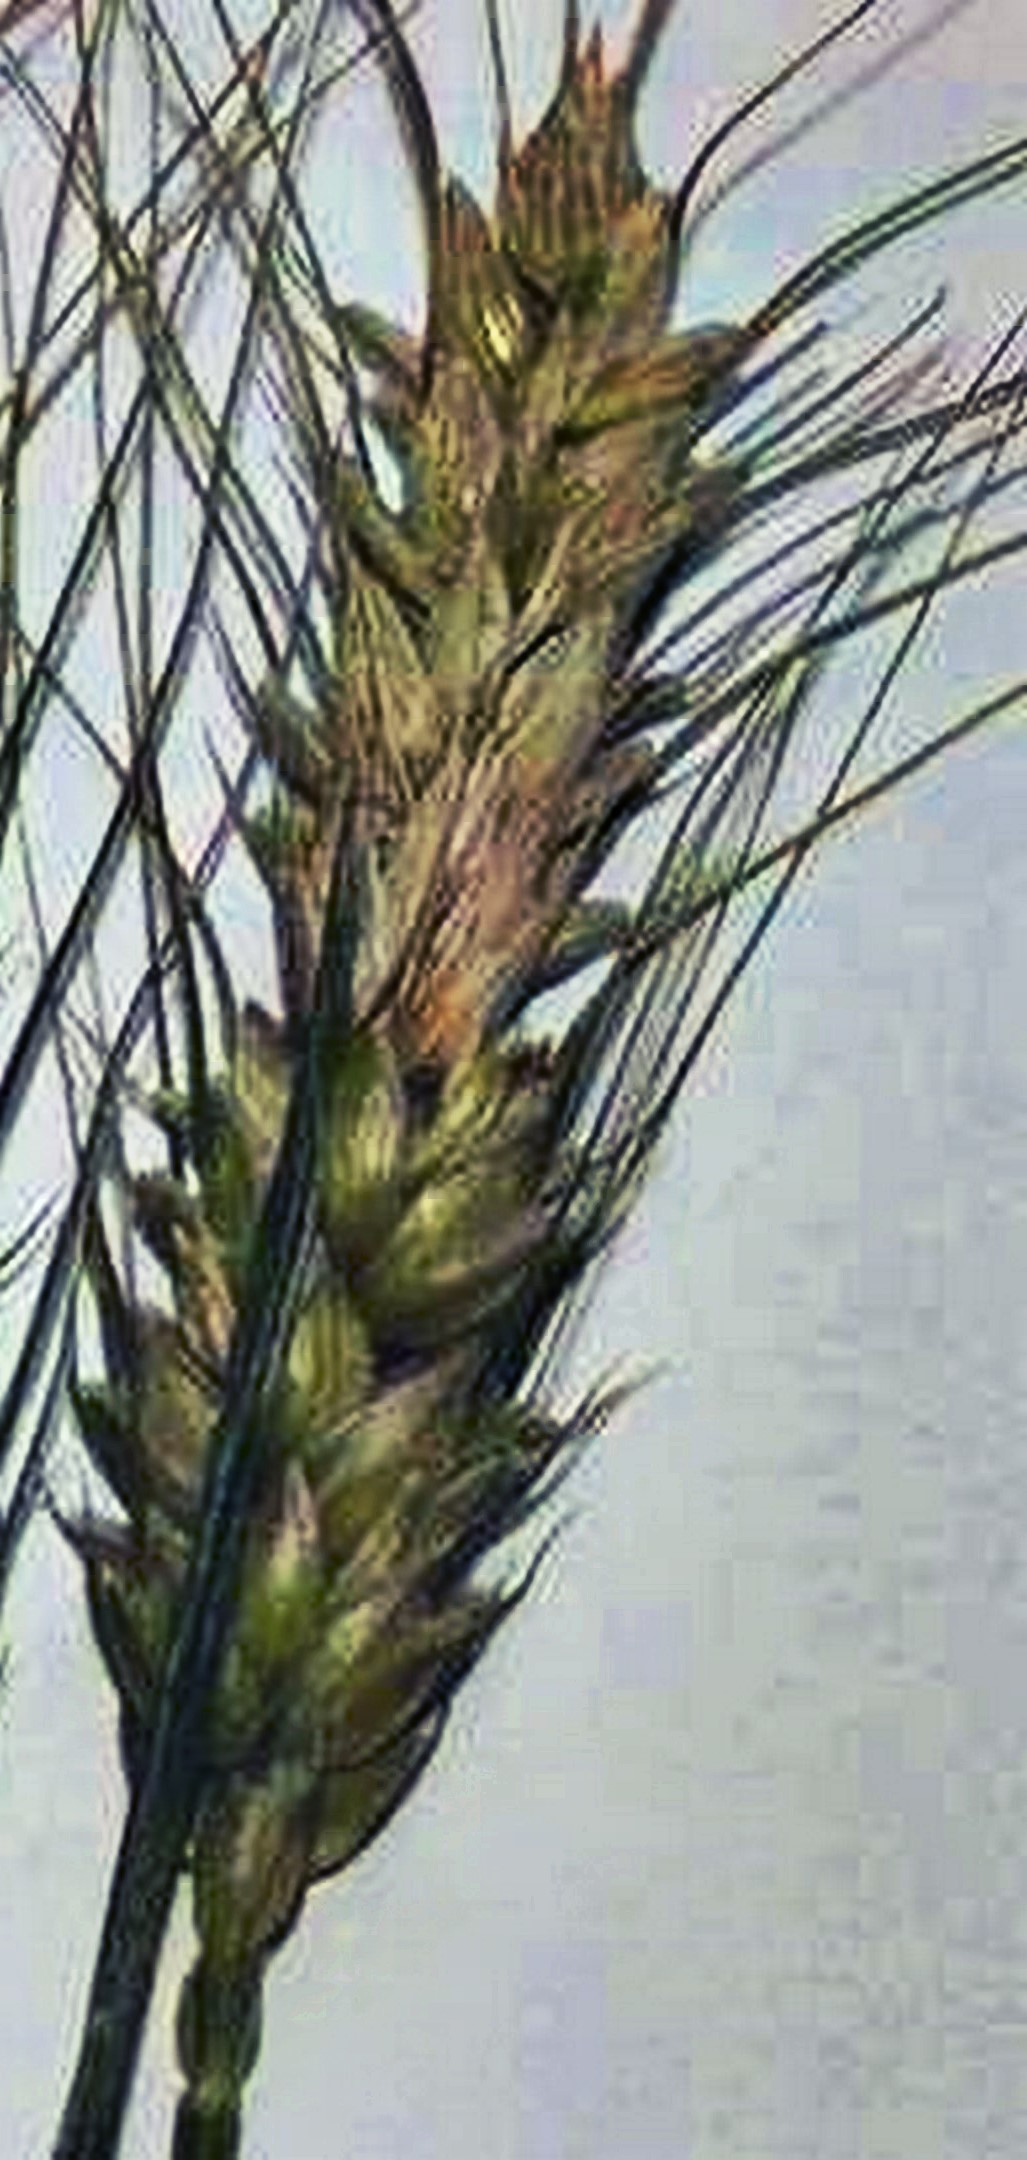Wheat scab: (128, 74, 796, 1840)
